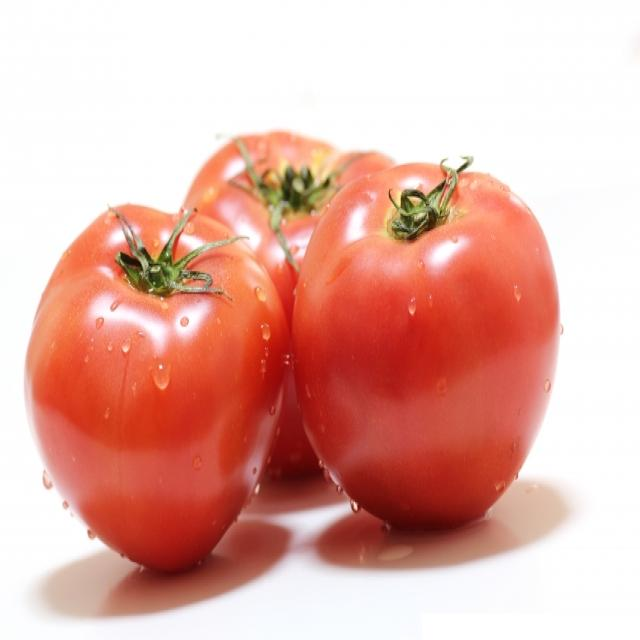Tomato: (291, 153, 563, 540), (22, 194, 290, 580), (177, 125, 396, 485)
